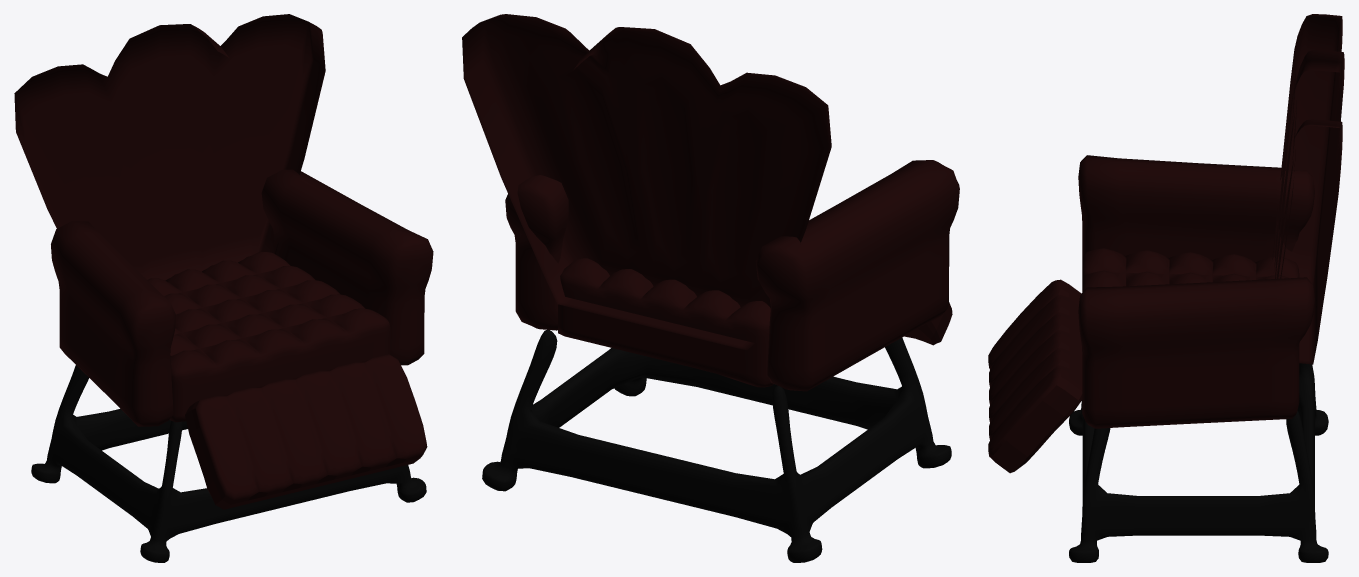
Rendered from sofa1.obj.
The picture shows the model from 3 angles, left to right: view 1: azimuth 30°, elevation 25°; view 2: azimuth 150°, elevation 25°; view 3: azimuth 270°, elevation 25°; orthographic projection. The views are drawn at different scales.
Visible parts, largest first — view 1: Plane.004; view 2: Plane.004; view 3: Plane.004.
Part boxes in pixels (<box>): Plane.004: <box>14,14,433,562</box>; Plane.004: <box>462,14,959,562</box>; Plane.004: <box>988,14,1344,562</box>.
Size of the model in its own units: 1 by 1.31 by 0.9688.
